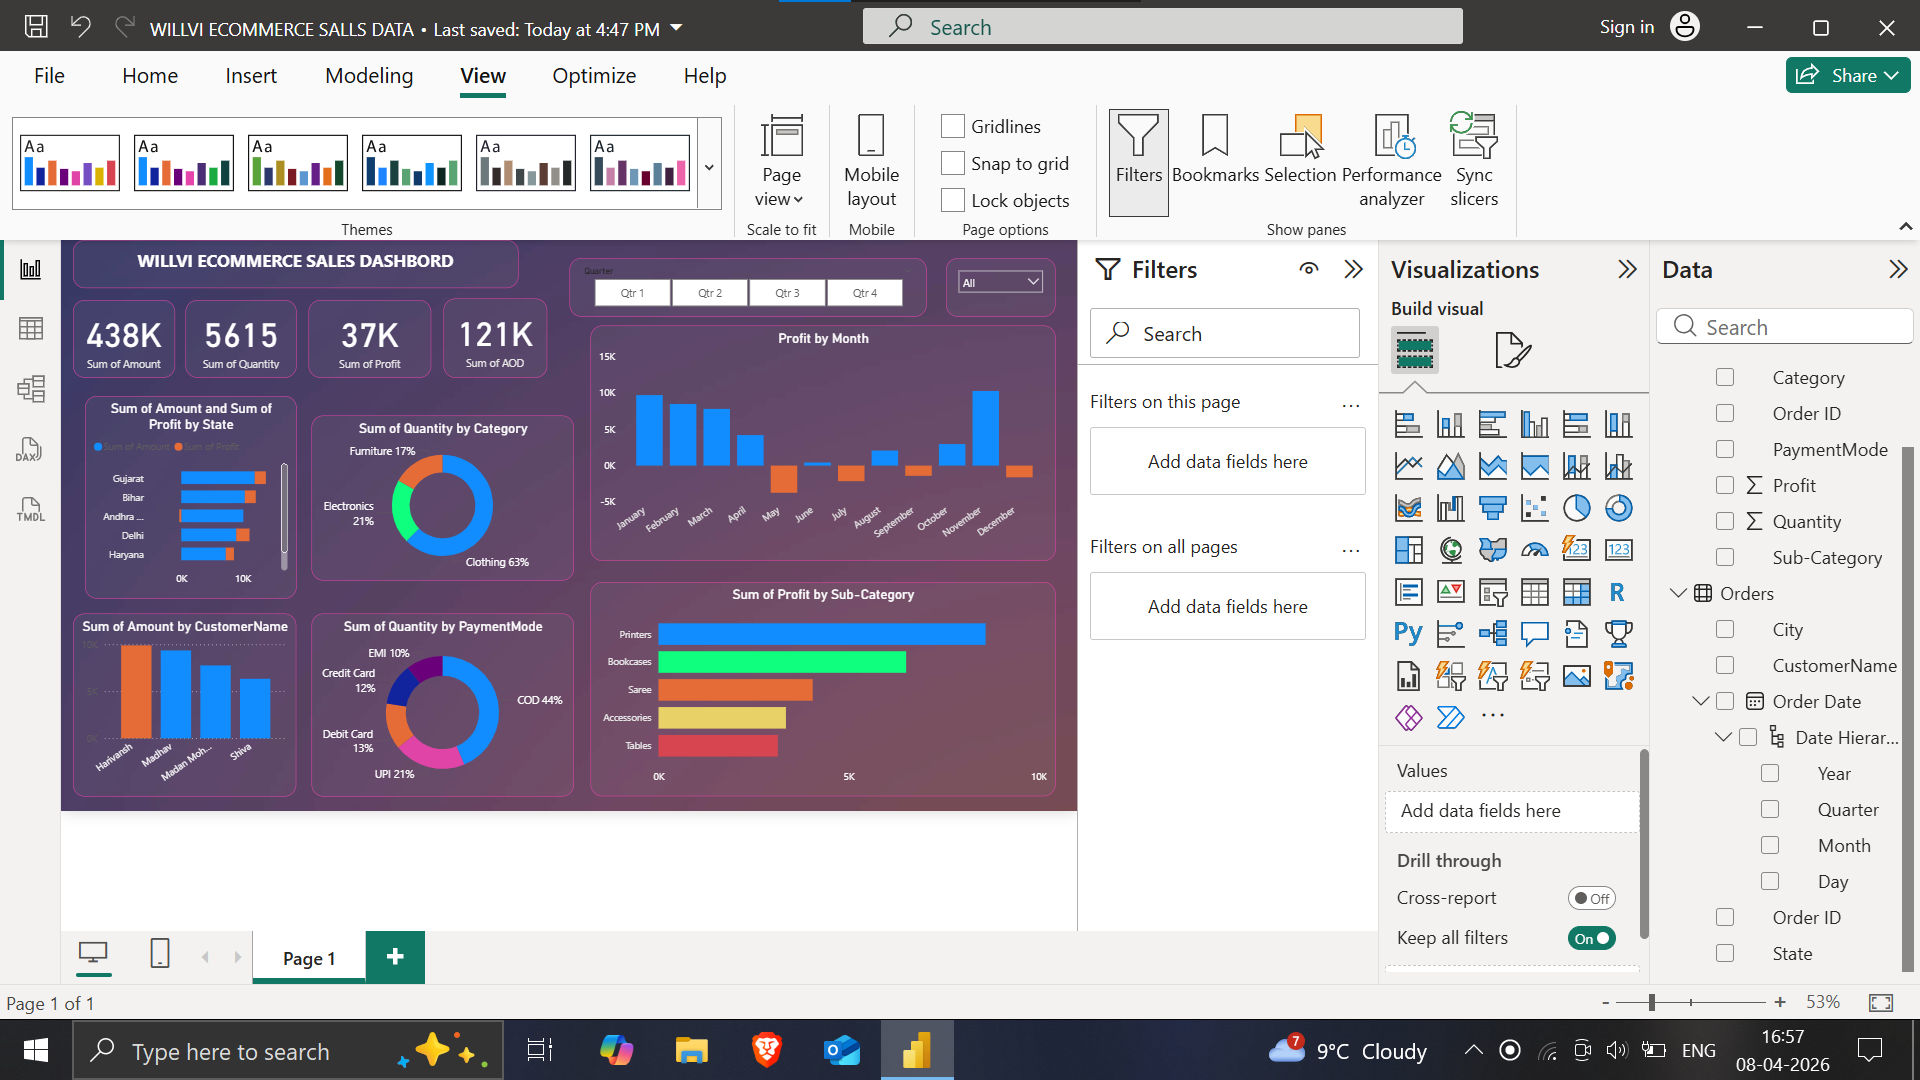

What the dashboard file says about the page in this screenshot:
{"tool":"powerbi","page":{"name":"Page 1","canvas":[1280,720],"ordinal":0},"visuals":[{"type":"columnChart","title":" Profit by Month","fields":{"Category":["Orders.Order Date.Variation.Date Hierarchy.Month"],"Y":["Sum(Details.Profit)"]},"box":[667.1,107.7,585.8,296.7],"z":1000},{"type":"barChart","fields":{"Category":["Details.Sub-Category"],"Y":["Sum(Details.Profit)"]},"box":[667.1,430.9,585.8,270.2],"z":2000},{"type":"donutChart","fields":{"Category":["Details.Category"],"Y":["Sum(Details.Quantity)"]},"box":[315.6,221.1,330.7,207.9],"z":3000},{"type":"donutChart","fields":{"Category":["Details.PaymentMode","Details.Category"],"Y":["Sum(Details.Quantity)"]},"box":[315.6,470.6,330.7,230.6],"z":4000},{"type":"card","fields":{"Values":["Sum(Details.Amount)"]},"box":[15.1,75.6,128.5,98.3],"z":5000},{"type":"card","fields":{"Values":["Sum(Details.Quantity)"]},"box":[156.9,75.6,139.8,98.3],"z":6000},{"type":"card","fields":{"Values":["Sum(Details.Profit)"]},"box":[311.8,75.6,155,98.3],"z":7000},{"type":"card","fields":{"Values":["Sum(Details.AOD)"]},"box":[481.9,73.7,130.4,100.2],"z":8000},{"type":"barChart","fields":{"Category":["Orders.State","Details.Sub-Category"],"Y":["Sum(Details.Amount)","Sum(Details.Profit)"]},"box":[30.2,196.5,266.5,255.1],"z":9000},{"type":"columnChart","fields":{"Category":["Orders.CustomerName"],"Y":["Sum(Details.Amount)"]},"box":[15.1,470.6,281.6,230.6],"z":9001},{"type":"textbox","box":[15.1,0,561.3,60.5],"z":9002},{"type":"slicer","fields":{"Values":["Orders.Order Date.Variation.Date Hierarchy.Quarter"]},"box":[640.6,22.7,449.8,73.7],"z":9003},{"type":"slicer","fields":{"Values":["Orders.State"]},"box":[1115,22.7,138,73.7],"z":9004}]}

Visuals, with their boxes in screenshot pixels (x1, y1, x2, y2):
" Profit by Month" columnChart: BBox(1072, 169, 1908, 592)
barChart - Details.Sub-Category x Sum(Details.Profit): BBox(1072, 630, 1908, 1015)
donutChart - Details.Category x Sum(Details.Quantity): BBox(570, 330, 1042, 627)
donutChart - Details.PaymentMode x Details.Category: BBox(570, 686, 1042, 1015)
card - Sum(Details.Amount): BBox(142, 123, 325, 263)
card - Sum(Details.Quantity): BBox(344, 123, 543, 263)
card - Sum(Details.Profit): BBox(565, 123, 786, 263)
card - Sum(Details.AOD): BBox(808, 120, 994, 263)
barChart - Orders.State x Details.Sub-Category: BBox(163, 295, 543, 659)
columnChart - Orders.CustomerName x Sum(Details.Amount): BBox(142, 686, 543, 1015)
textbox: BBox(142, 15, 942, 101)
slicer - Orders.Order Date.Variation.Date Hierarchy.Quarter: BBox(1034, 47, 1676, 153)
slicer - Orders.State: BBox(1711, 47, 1908, 153)
